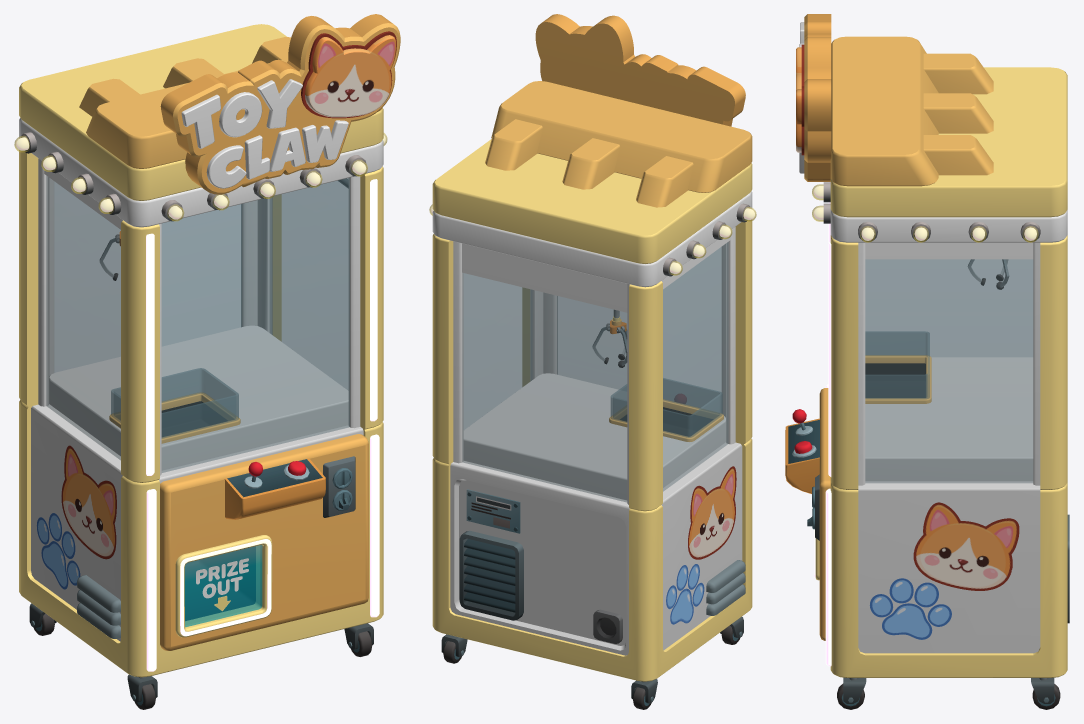
The model's file is Toy_Claw_01.fbx.
3 renders of one model, left to right at view 1: azimuth 30°, elevation 25°; view 2: azimuth 150°, elevation 25°; view 3: azimuth 270°, elevation 25°, orthographic. The views are drawn at different scales.
Visible parts, largest first — view 1: Toy_Claw_01, Toy_Claw_Logo_01, Cap_01, Lamps_01; view 2: Toy_Claw_01, Toy_Claw_Logo_01, Lamps_01; view 3: Toy_Claw_01, Toy_Claw_Logo_01, Lamps_01, Wheel_Base_01.003, Wheel_Base_01.
Boxes of the visible parts, bbox=[...] form: Toy_Claw_01: bbox=[19, 24, 383, 677]; Toy_Claw_Logo_01: bbox=[160, 14, 400, 194]; Cap_01: bbox=[184, 545, 262, 626]; Lamps_01: bbox=[14, 132, 387, 221]; Toy_Claw_01: bbox=[432, 81, 752, 681]; Toy_Claw_Logo_01: bbox=[535, 14, 745, 126]; Lamps_01: bbox=[429, 203, 756, 276]; Toy_Claw_01: bbox=[785, 36, 1069, 677]; Toy_Claw_Logo_01: bbox=[796, 14, 831, 181]; Lamps_01: bbox=[812, 182, 1040, 242]; Wheel_Base_01.003: bbox=[1031, 677, 1054, 703]; Wheel_Base_01: bbox=[843, 677, 866, 703].
Size of the model in its own units: 1.35 by 2.98 by 1.2.
